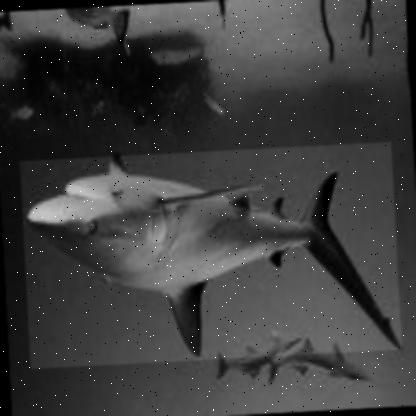bulldog-shark: (19, 140, 402, 368)
